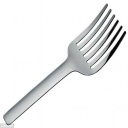fork: (8, 2, 128, 122)
